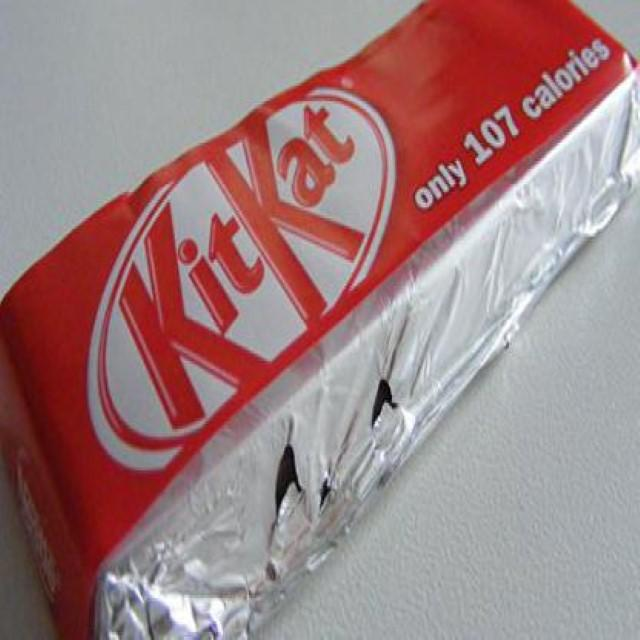kitkat_chocolate: (33, 13, 605, 572)
